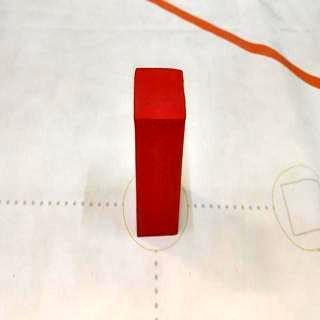redbox: (133, 66, 186, 238)
